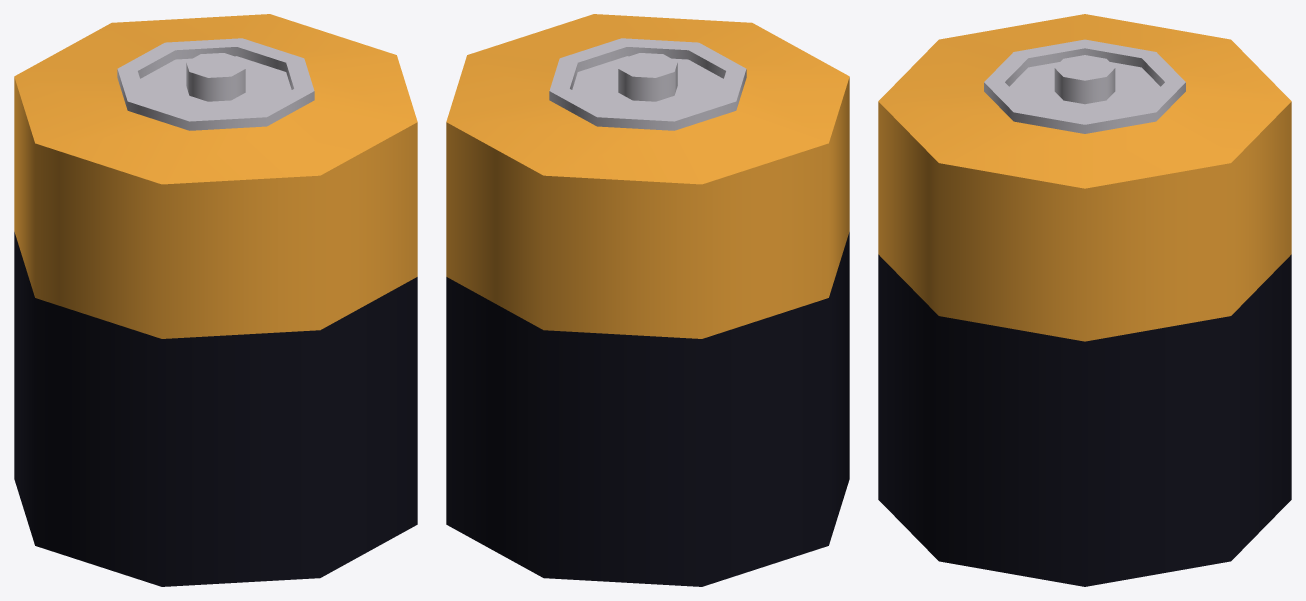
Rendered from Batería.fbx.
The picture shows the model from 3 angles, left to right: view 1: azimuth 30°, elevation 25°; view 2: azimuth 150°, elevation 25°; view 3: azimuth 270°, elevation 25°; orthographic projection.
Parts seen in each view (by area): view 1: Cylinder; view 2: Cylinder; view 3: Cylinder.
Boxes of the visible parts, <box> form: Cylinder: <box>14,14,417,586</box>; Cylinder: <box>446,14,849,586</box>; Cylinder: <box>878,14,1291,586</box>.
Bounding box in the file's own units: 4.59 × 5.29 × 4.59.
